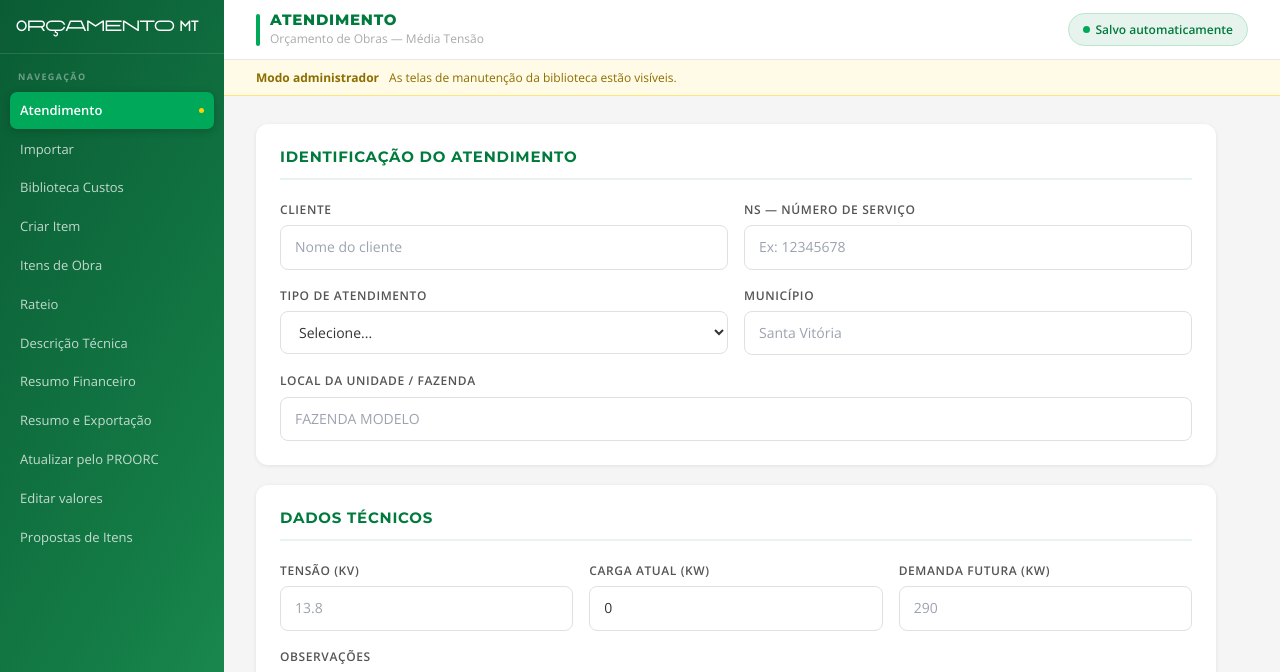
Scenario: Etapa 7 — tela de propostas › com ?admin=1 a aba abre a tela
The image size is (1280, 672).
What coordinates should you click on to do the following:
click the button "Propostas de Itens"
I would click on:
 (112, 537)
Its box is left=10, top=519, right=214, bottom=556.
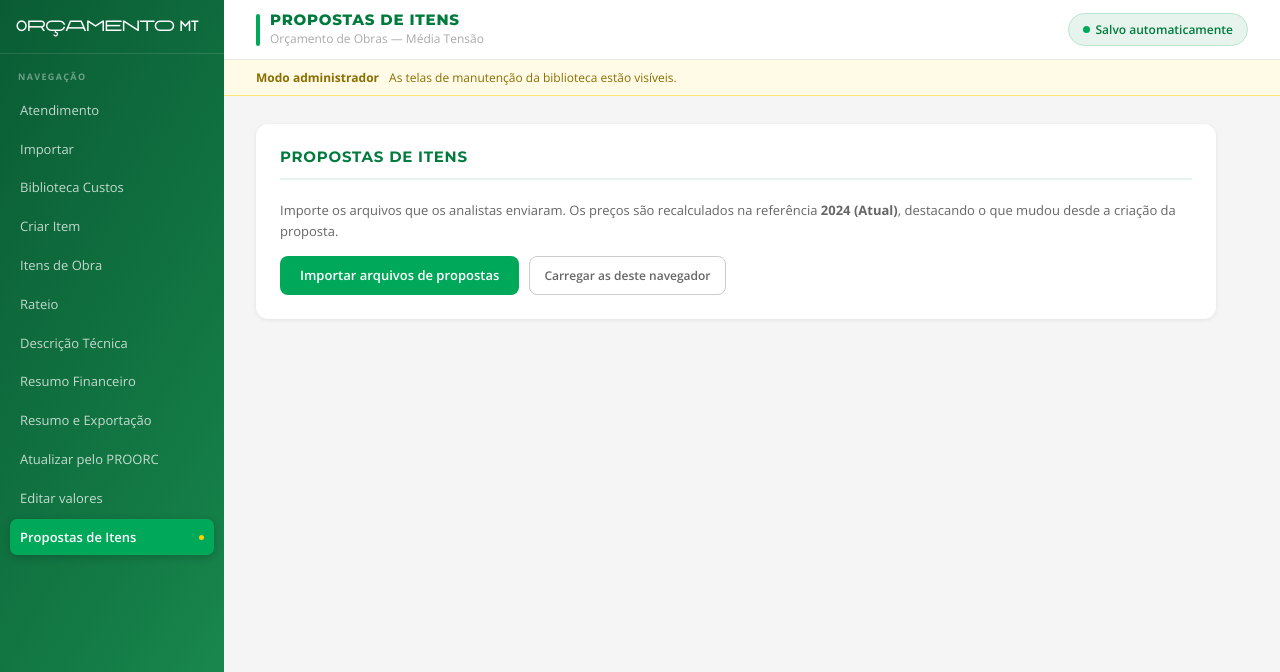
Expected: the button "Importar arquivos de propostas" is shown, left=280, top=256, right=519, bottom=295
